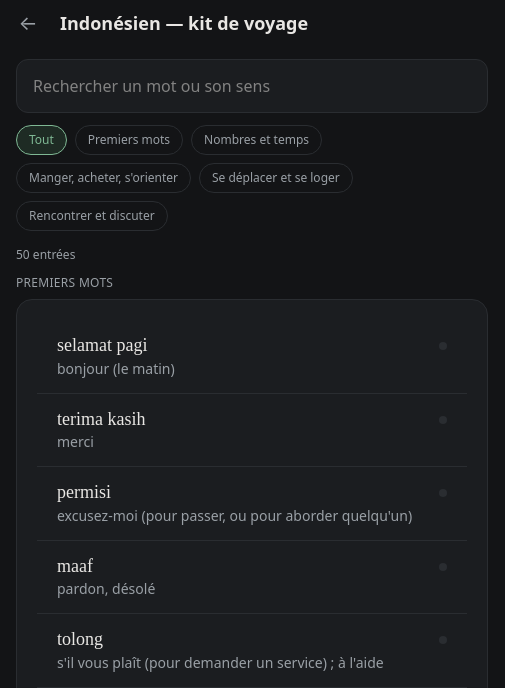
Scenario: lexique › déplie une entrée pour montrer la note et les exemples
Click the text "terima kasih" at [101, 419], box left=57, top=408, right=146, bottom=430
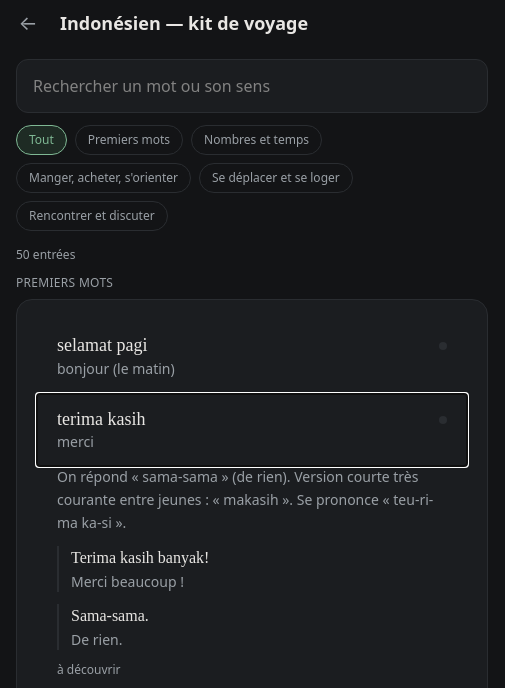
Now the text "sama-sama" is shown, box left=57, top=467, right=433, bottom=532
Now the text "Terima kasih banyak!" is shown, box left=71, top=549, right=209, bottom=566
